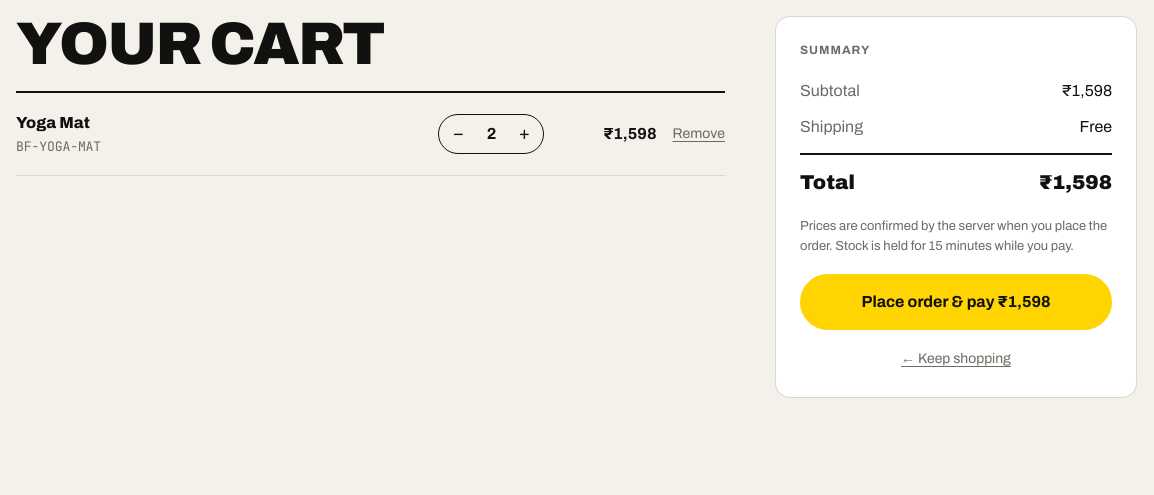
Test: CheckoutPage › highlights the line that ran out of stock
Click the button "Place order & pay ₹1,598" at point(956, 302), box [800,274,1112,330]
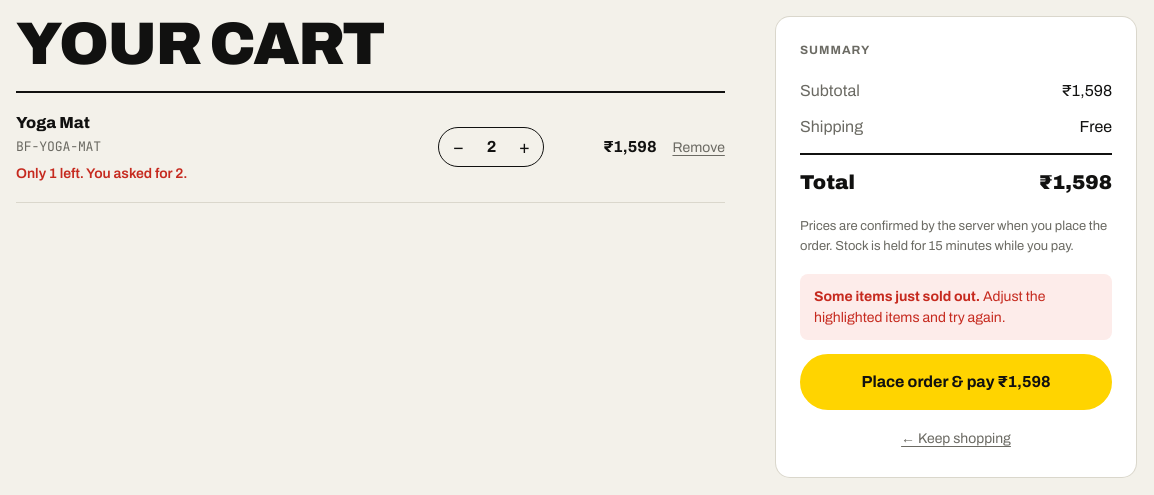
Now the text "Only 1 left. You asked for 2." is shown, box [16,166,187,181]
